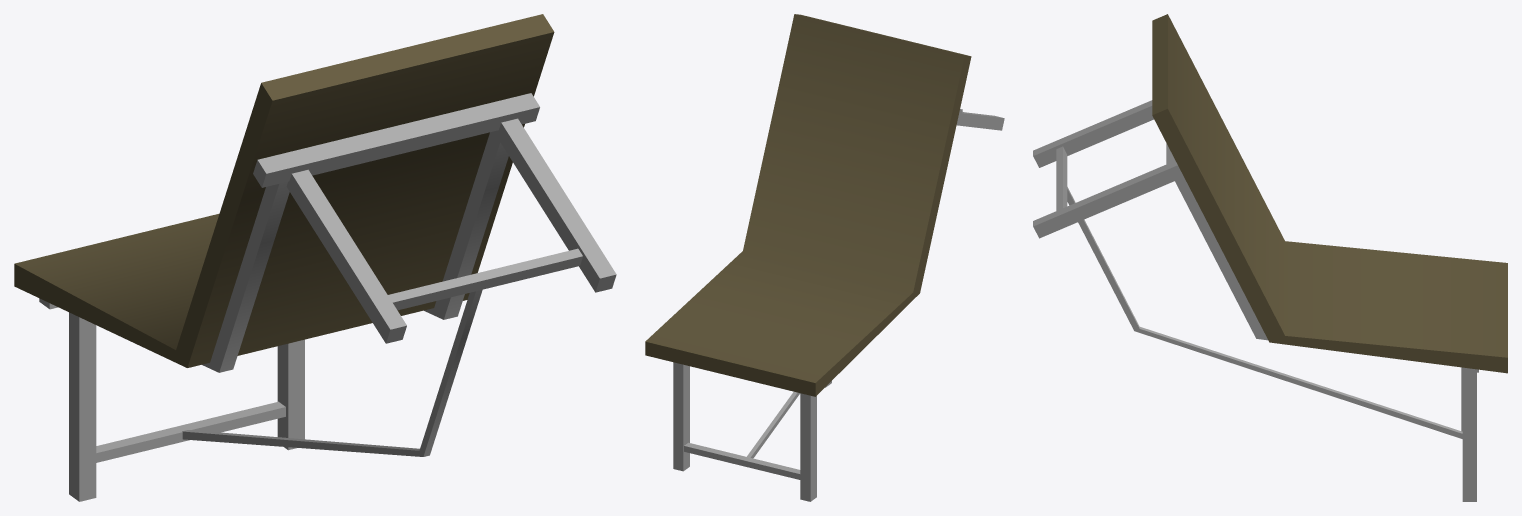
The model's file is Ban3.fbx.
3 renders of one model, left to right at view 1: azimuth 30°, elevation 25°; view 2: azimuth 150°, elevation 25°; view 3: azimuth 270°, elevation 25°, orthographic. The views are drawn at different scales.
Visible parts, largest first — view 1: pasted__pCube16; view 2: pasted__pCube16; view 3: pasted__pCube16.
Boxes of the visible parts, x1,y1,x2,y2 form: pasted__pCube16: [14, 14, 616, 501]; pasted__pCube16: [645, 14, 1004, 501]; pasted__pCube16: [1033, 14, 1507, 501].
Bounding box in the file's own units: 55.34 × 109 × 117.
